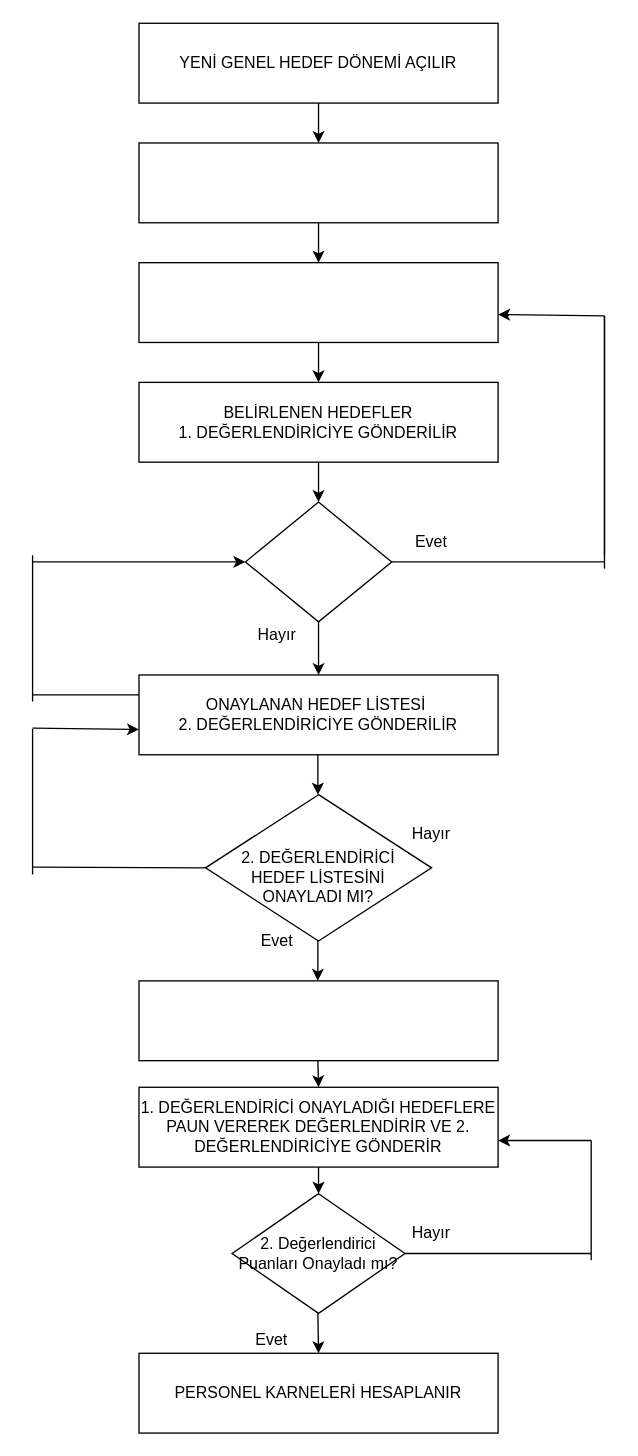
This 638x1456 diagram has some shape labels left out. Each missing label, with the centre of its shape:
GENEL HEDEF DÖNEMİ İÇİNDE HEDEF DEĞERLENDİRME DÖNEMİ AÇILIR: (x=318, y=1020)
GENEL HEDEF DÖNEMİ İÇİNDE HEDEF GİRİŞ DÖNEMİ AÇILIR: (x=318, y=182)
HEDEF GİRİŞ EKRANINDAN HEDEFLER BELİRLENİR: (x=318, y=301)
Reddedilen hedef var mı?: (x=318, y=561)
